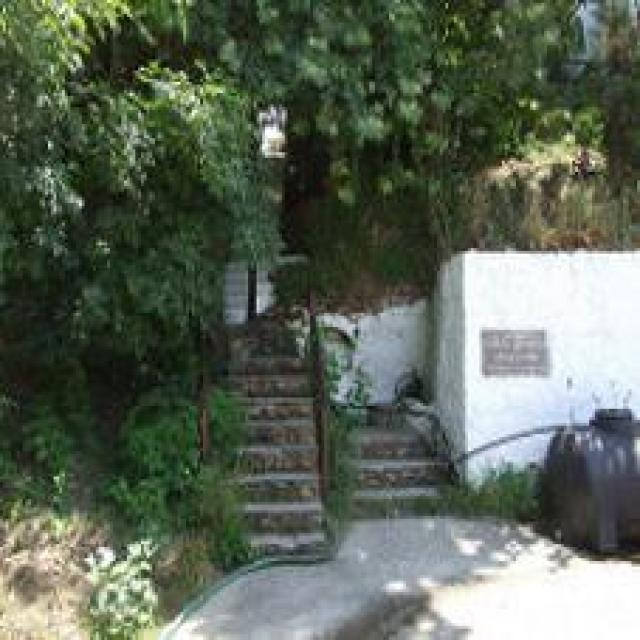upstair: (201, 357, 356, 557)
